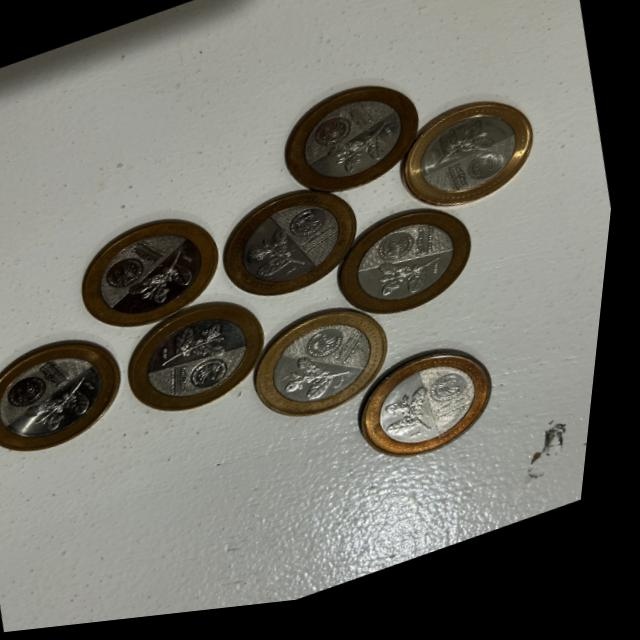20_New_Back: (276, 347, 361, 419), (161, 319, 242, 383), (27, 378, 103, 441), (422, 124, 504, 181), (322, 132, 400, 190), (251, 226, 317, 292), (379, 256, 451, 315), (132, 257, 202, 316), (385, 397, 449, 457)
